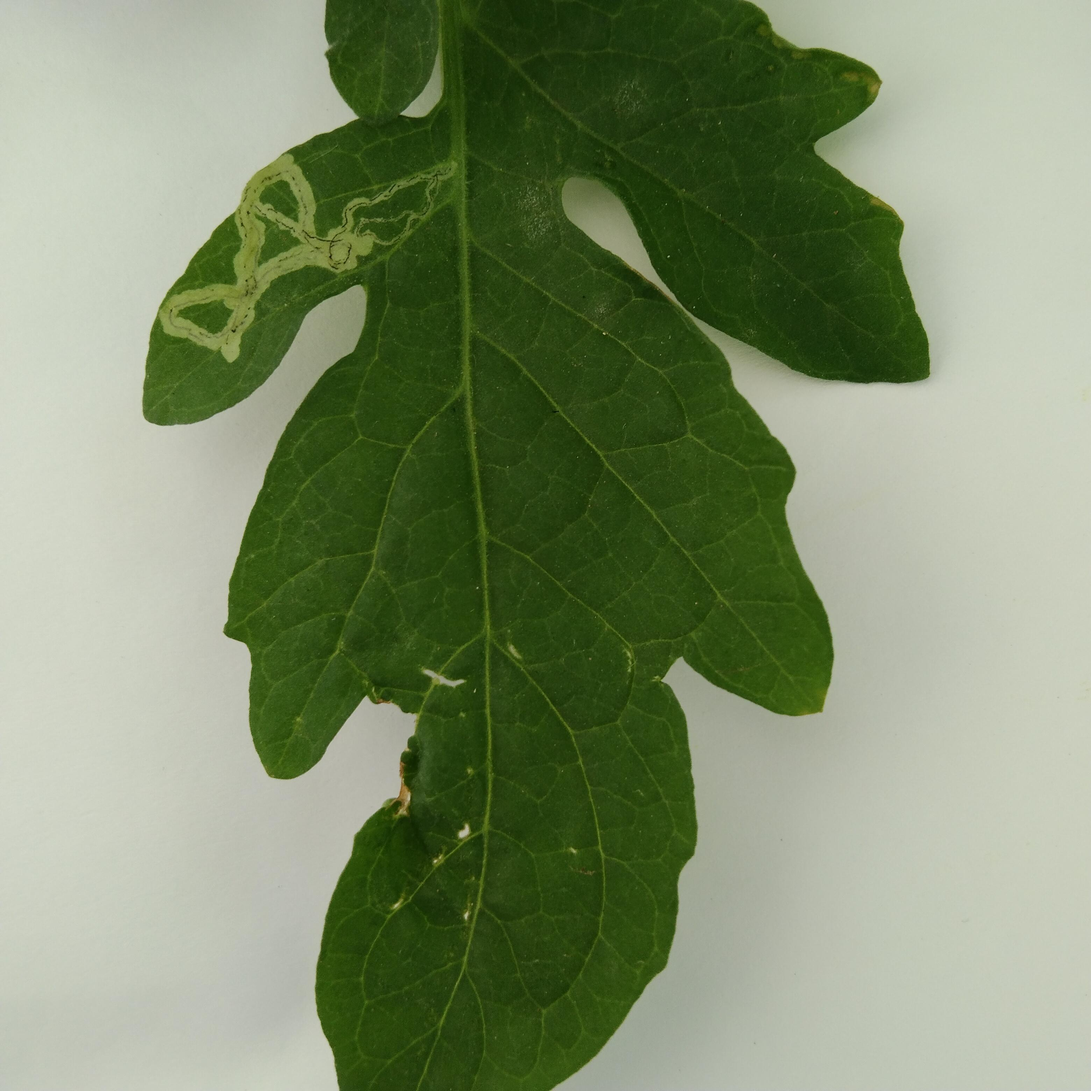Leaf_Miner: (87, 66, 476, 441)
